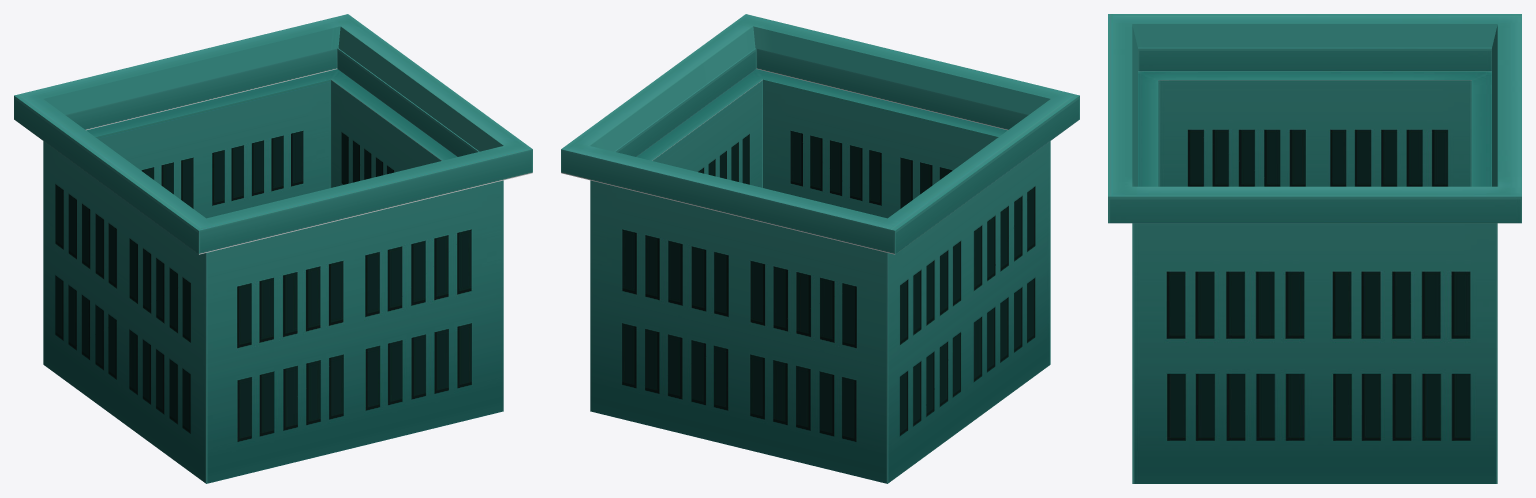
File: basket2.fbx
3 views of the same model, side by side, from view 1: azimuth 30°, elevation 25°; view 2: azimuth 150°, elevation 25°; view 3: azimuth 270°, elevation 25° (orthographic). The views are drawn at different scales.
Visible parts, largest first — view 1: basket2; view 2: basket2; view 3: basket2.
Boxes of the visible parts, x1,y1,x2,y2 form: basket2: (14, 14, 532, 483); basket2: (561, 14, 1079, 483); basket2: (1108, 14, 1521, 483).
Size of the model in its own units: 4.22 by 3.2 by 4.04.
